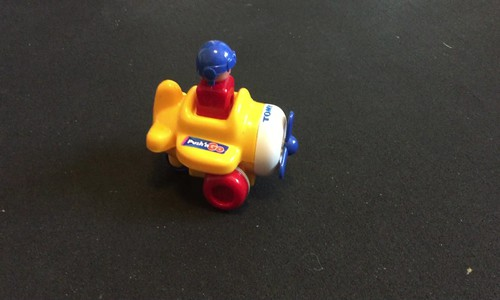toy: (140, 42, 293, 215)
